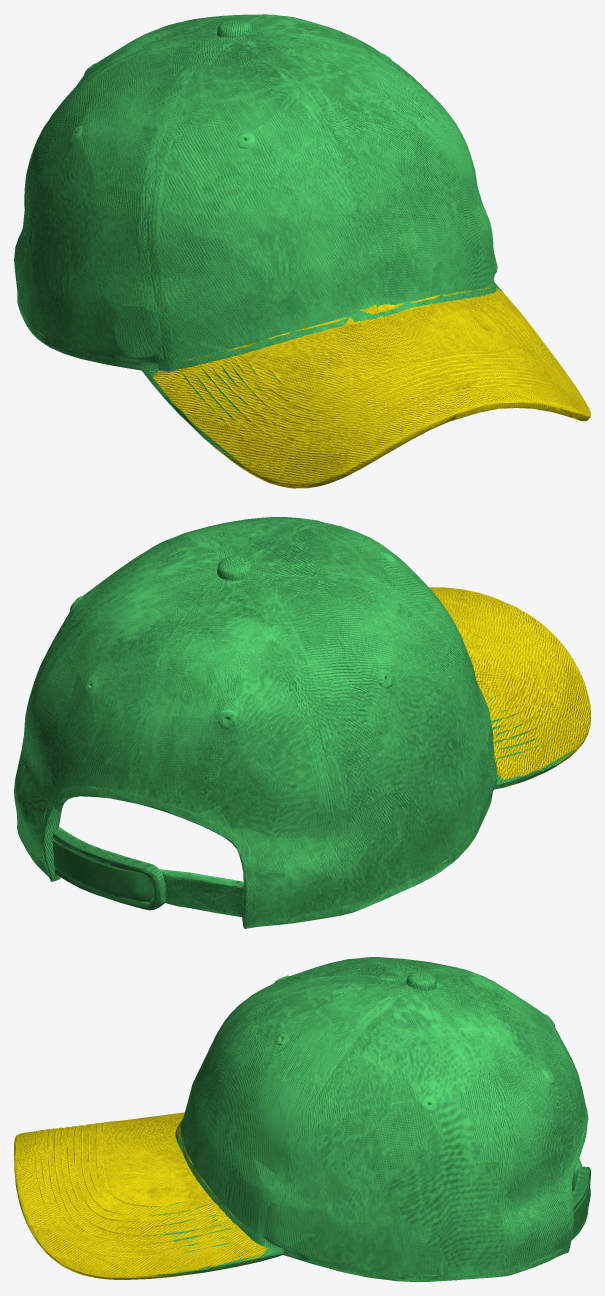
The model's file is mk_cap.glb.
3 renders of one model, top to bottom at view 1: azimuth 30°, elevation 25°; view 2: azimuth 150°, elevation 25°; view 3: azimuth 270°, elevation 25°, orthographic. The views are drawn at different scales.
Size of the model in its own units: 1.31 by 0.8673 by 1.9.
Materials: 2 (2 with a texture image).
